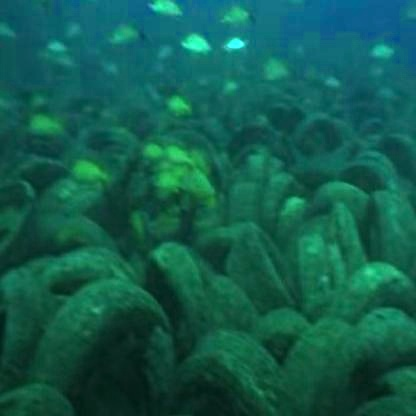tire: (64, 277, 174, 416), (294, 110, 355, 187)
